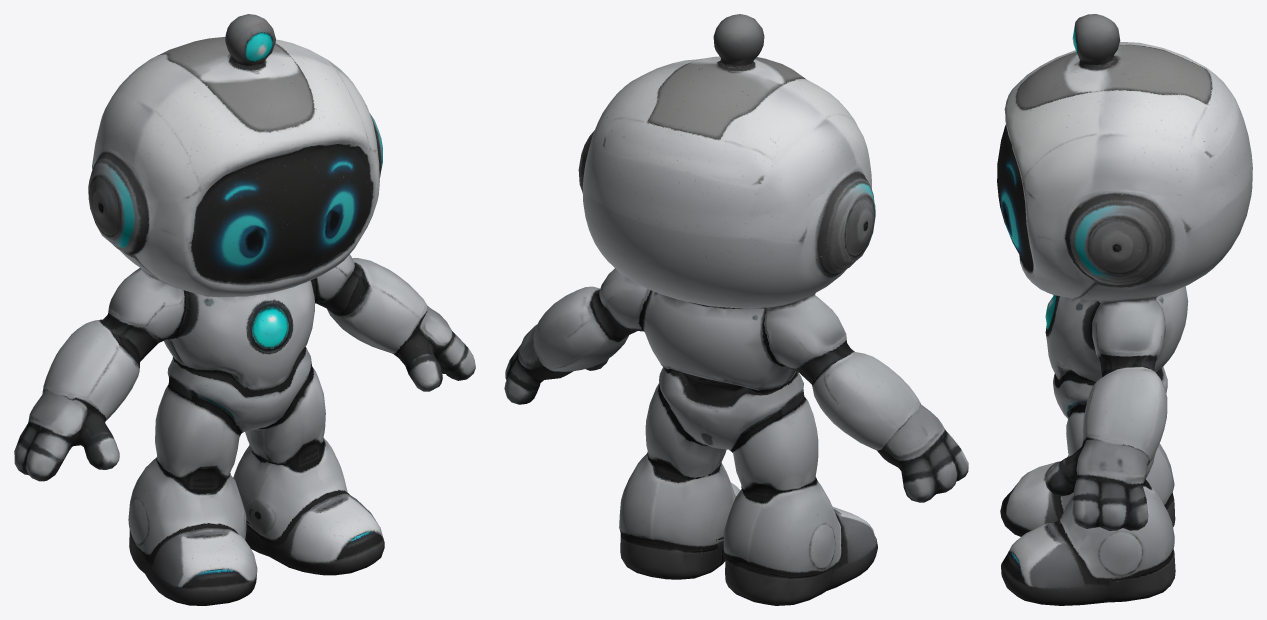
File: placeholder.glb
3 renders of one model, left to right at view 1: azimuth 30°, elevation 25°; view 2: azimuth 150°, elevation 25°; view 3: azimuth 270°, elevation 25°, orthographic.
Visible parts, largest first — view 1: Clippet; view 2: Clippet; view 3: Clippet.
Part boxes in pixels (box(x1,y1,x2,y2)): Clippet: box(14, 14, 475, 605); Clippet: box(504, 14, 968, 605); Clippet: box(997, 14, 1252, 605).
Bounding box in the file's own units: 0.8744 × 1.02 × 0.4355.
1 material, 1 textured.
